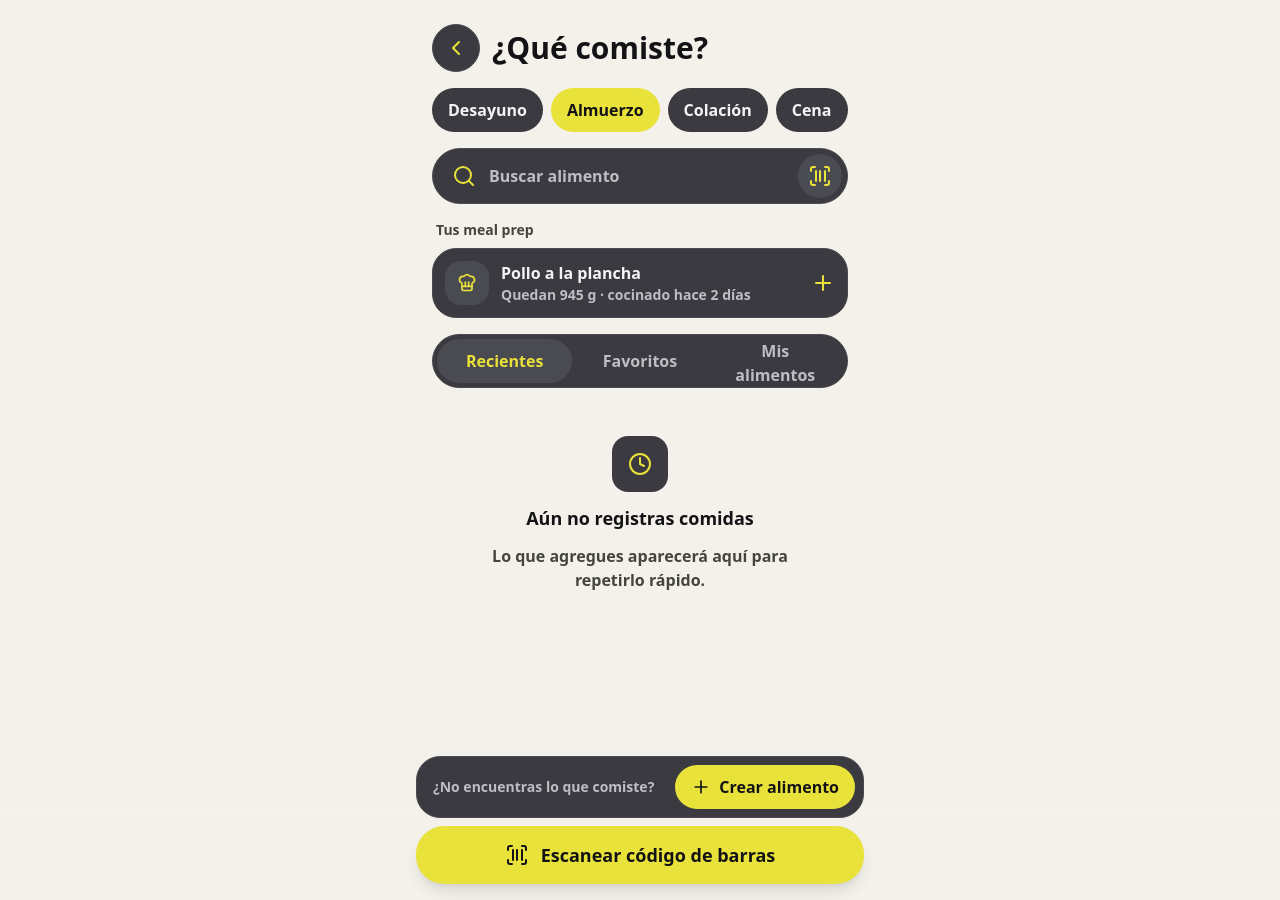
Test: logging a meal prep from Agregar (HU-18) › starts at 100 g for a batch without servings
Click the button "Pollo a la plancha Quedan 945 g · cocinado hace 2 días".
click(640, 283)  # box [432,248,848,318]
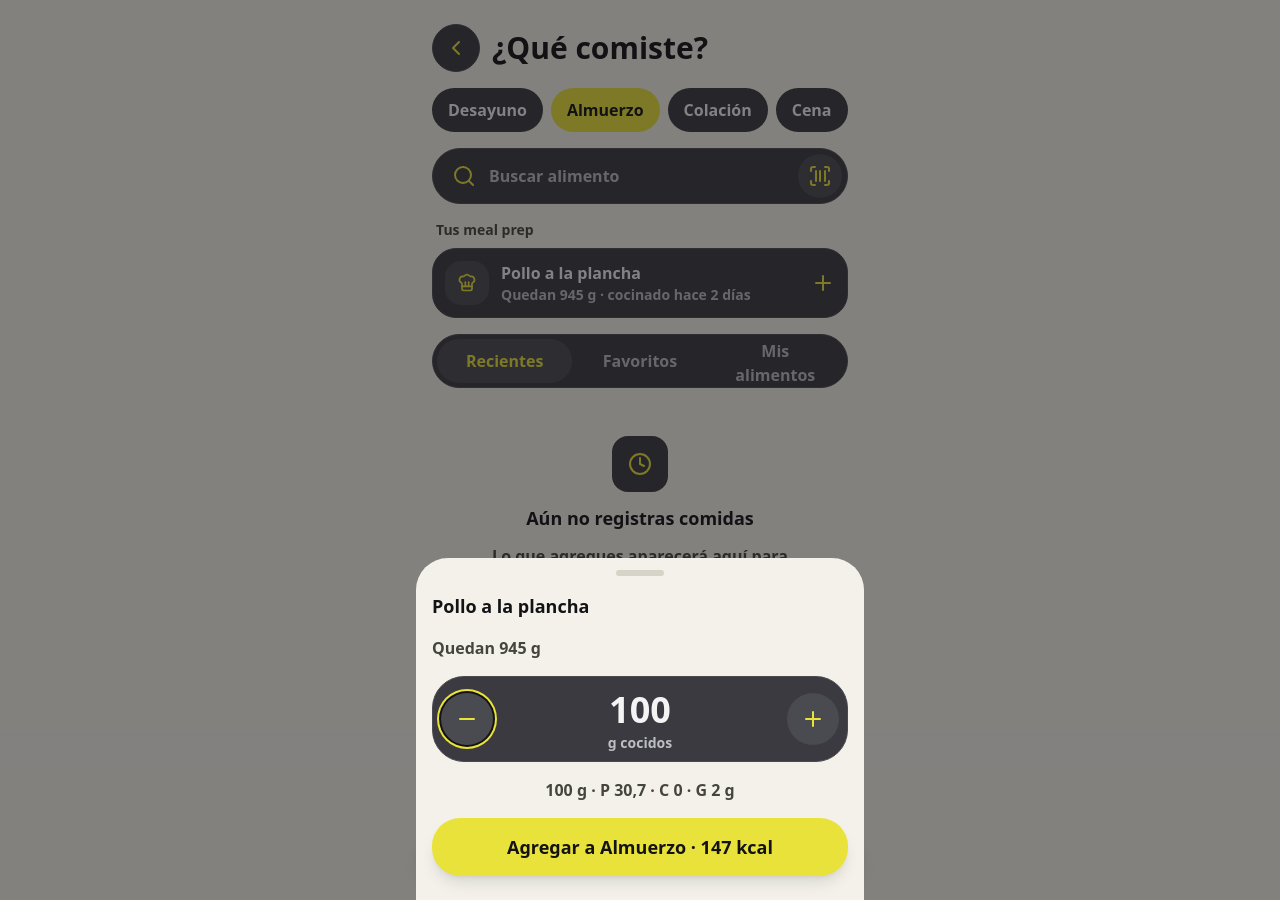
Now the field named "Gramos cocidos" holds "100", box [584,685,696,733]
